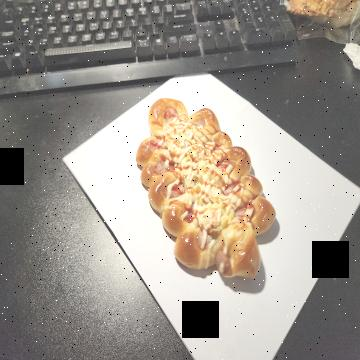pizza_bread: (136, 96, 279, 286)
